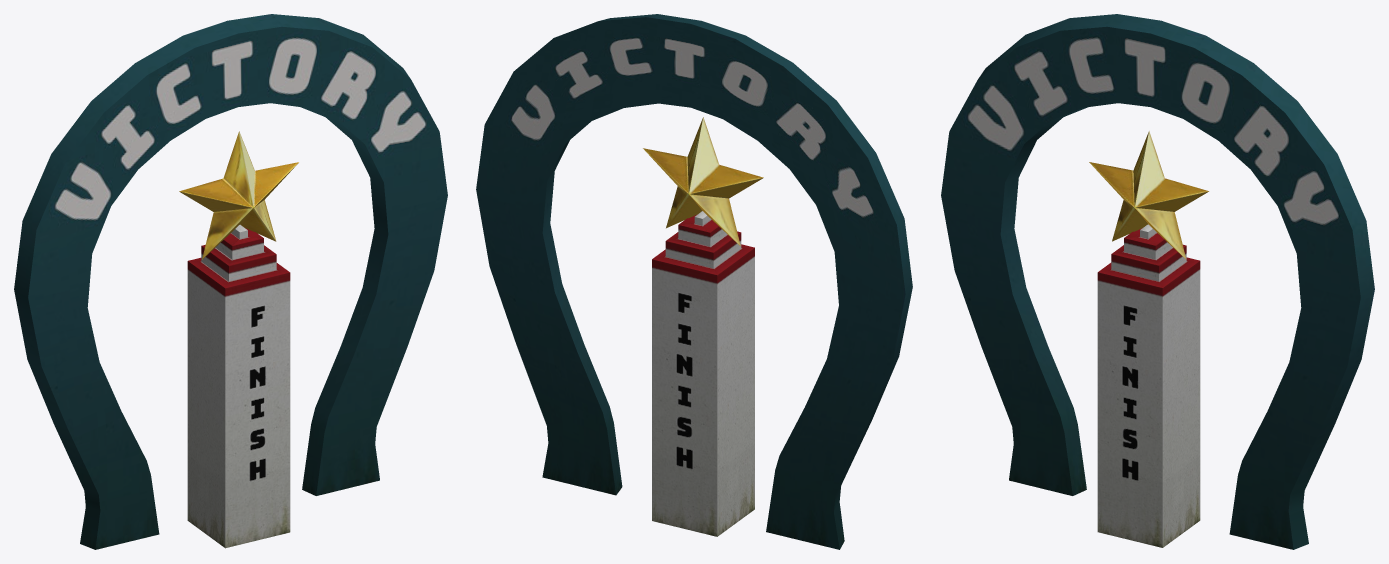
File: finishpoint.fbx
3 renders of one model, left to right at view 1: azimuth 30°, elevation 25°; view 2: azimuth 150°, elevation 25°; view 3: azimuth 330°, elevation 25°, orthographic.
Parts seen in each view (by area): view 1: finishpoint; view 2: finishpoint; view 3: finishpoint.
Part boxes in pixels (<box>): finishpoint: <box>14,14,447,549</box>; finishpoint: <box>476,14,912,549</box>; finishpoint: <box>941,14,1374,549</box>.
Size of the model in its own units: 72.5 by 80.67 by 11.04.
1 material, 1 textured.
